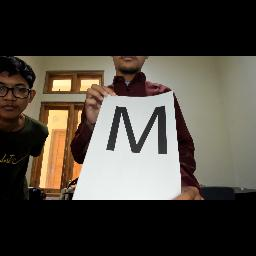m: (103, 103, 175, 163)
